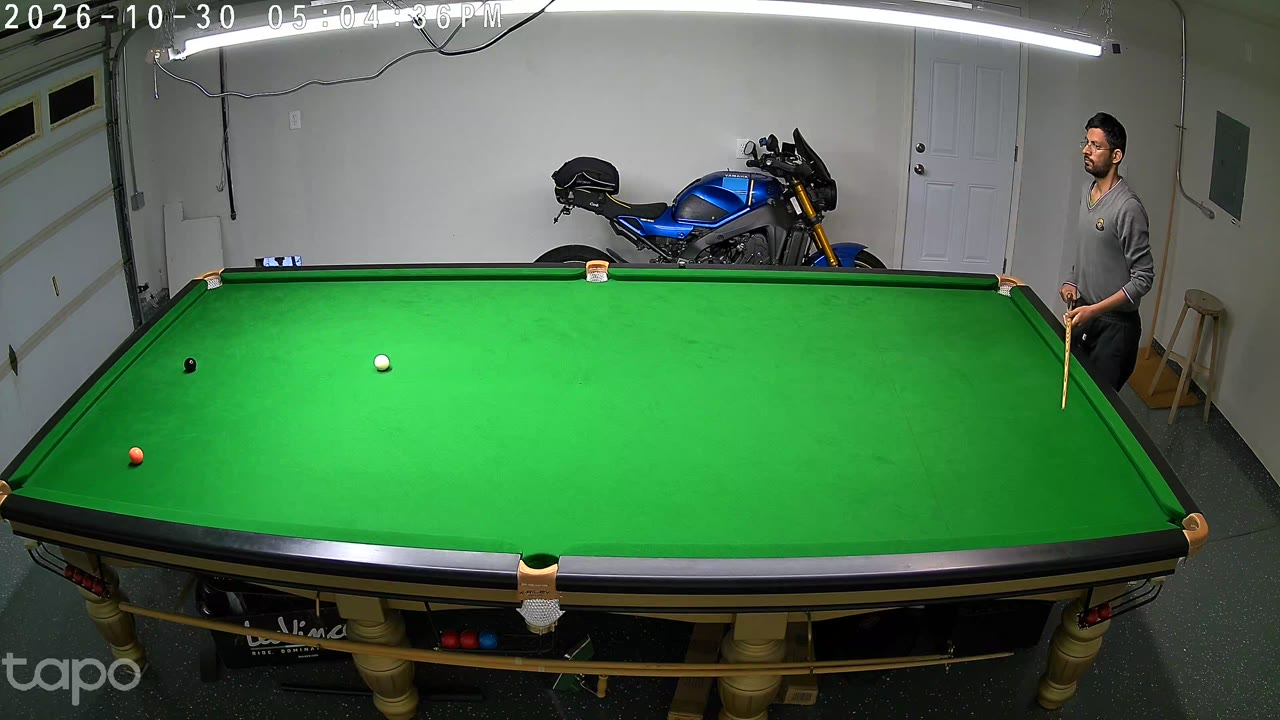black: (184, 356, 196, 376)
pink: (129, 445, 143, 467)
white: (375, 353, 389, 373)
